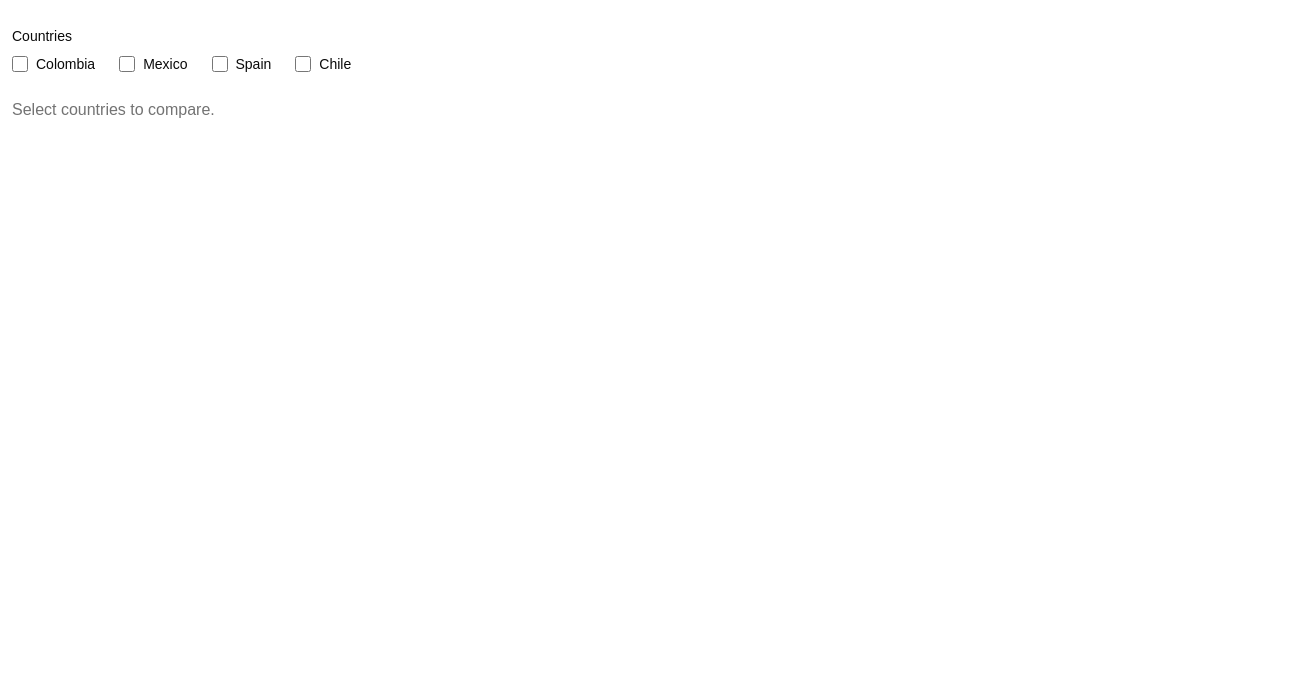
Test: selection is kept in the URL and drives the request
Click the checkbox labelled "Colombia": point(20, 64) top-left (12, 56), bottom-right (28, 72)
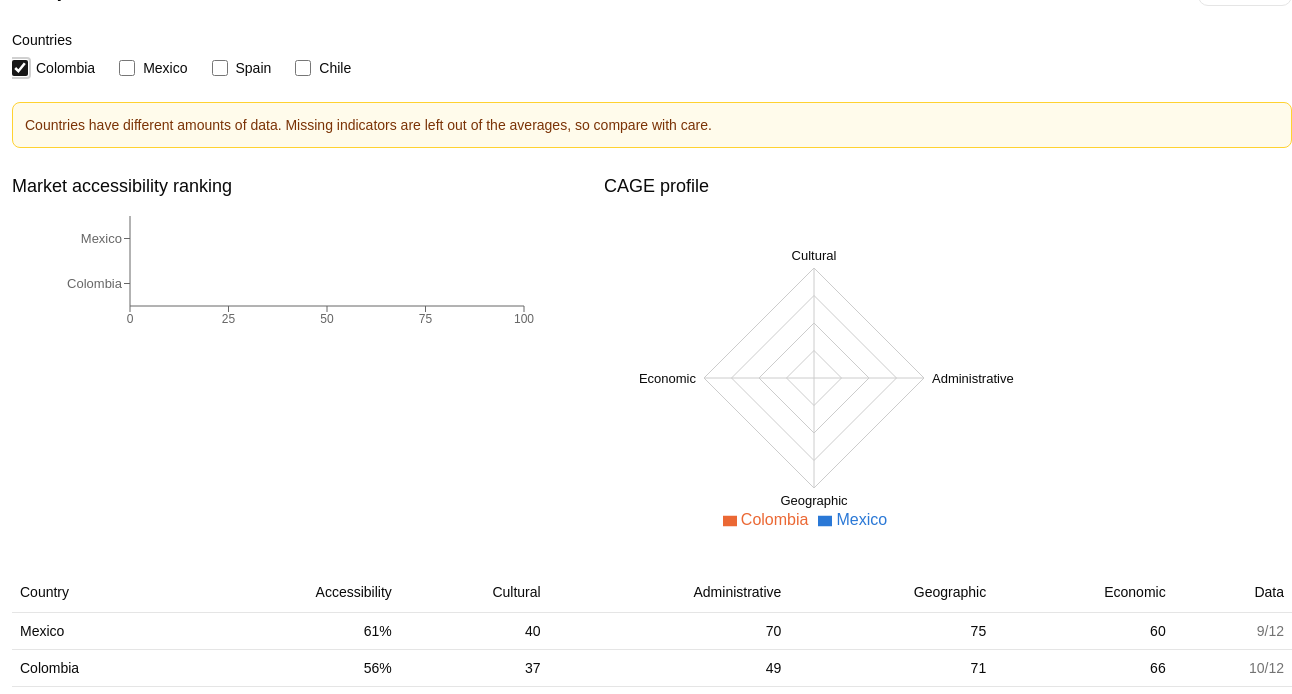
Click the checkbox labelled "Mexico": point(127, 68) top-left (119, 60), bottom-right (135, 76)
(page scrolled)
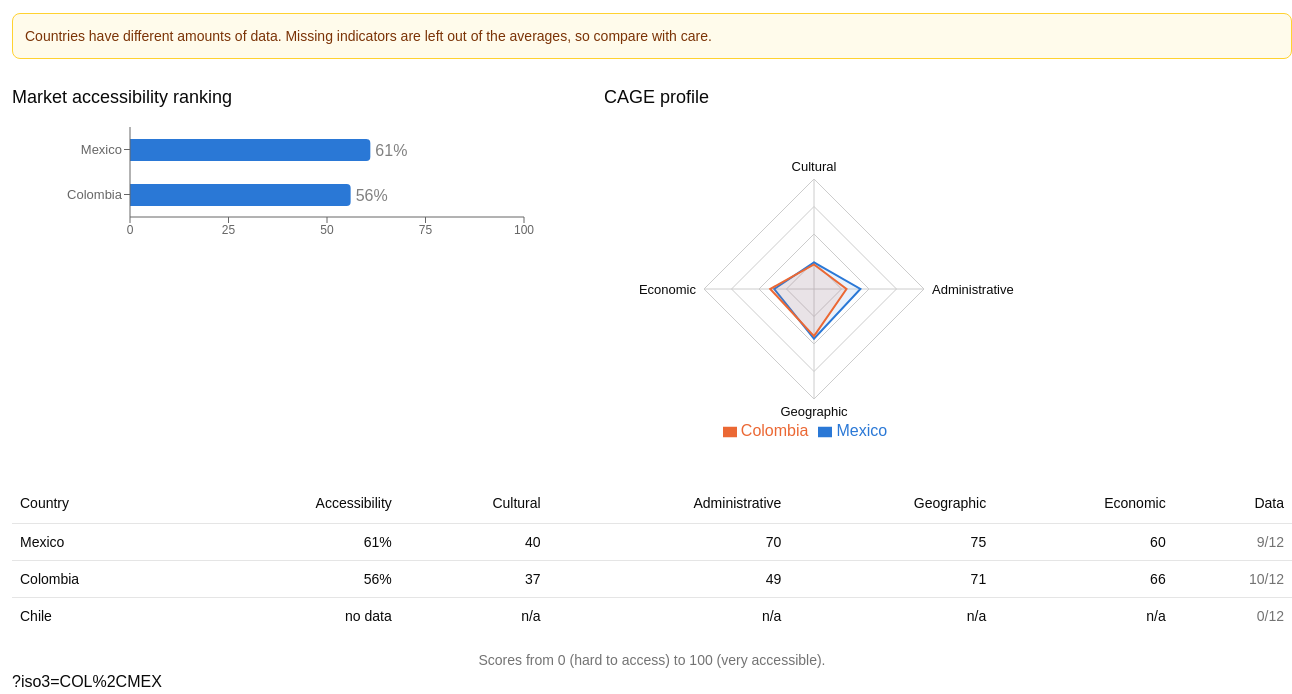
Expected: the table named "Comparison values" is shown, top-left (12, 483), bottom-right (1291, 670)
Expected: the text with test id "search" reads "?iso3=COL%2CMEX", top-left (12, 672), bottom-right (162, 690)
